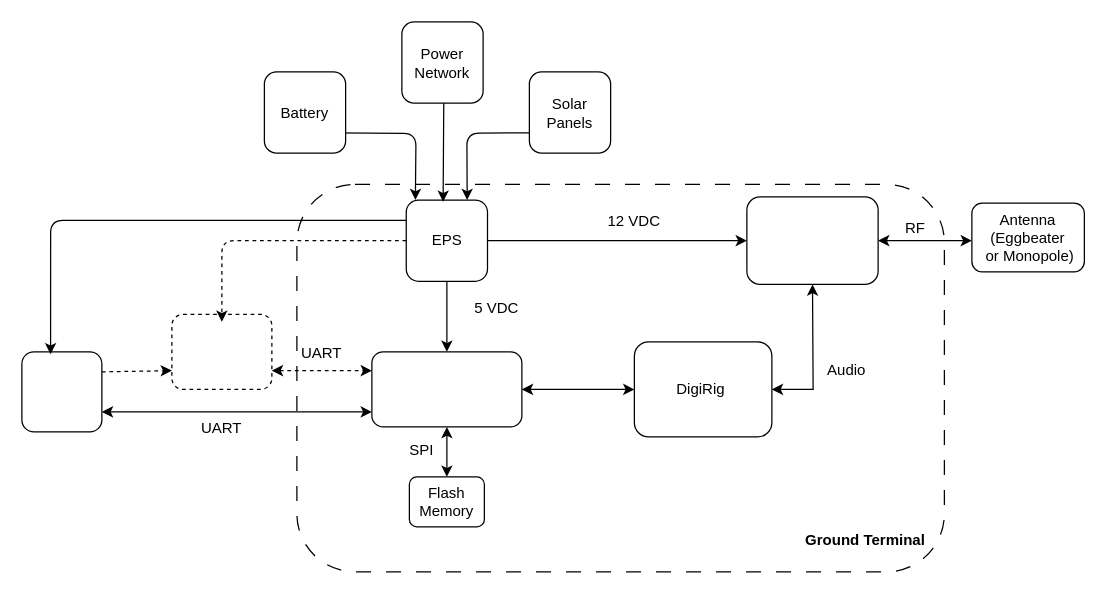
This 1106x594 diagram has some shape labels left out. The shapes that lost their labels are listed below. From the top down, each one's box as (x1, y1, x2, y2) in pixels, then its label:
(746, 196, 878, 284): Transceiver (Yaesu FTM-100 or FTM 300)
(171, 313, 272, 389): Sensors Interface (Optional)
(21, 351, 102, 432): Sensors
(371, 351, 522, 427): MCU (Raspberry Pi)
